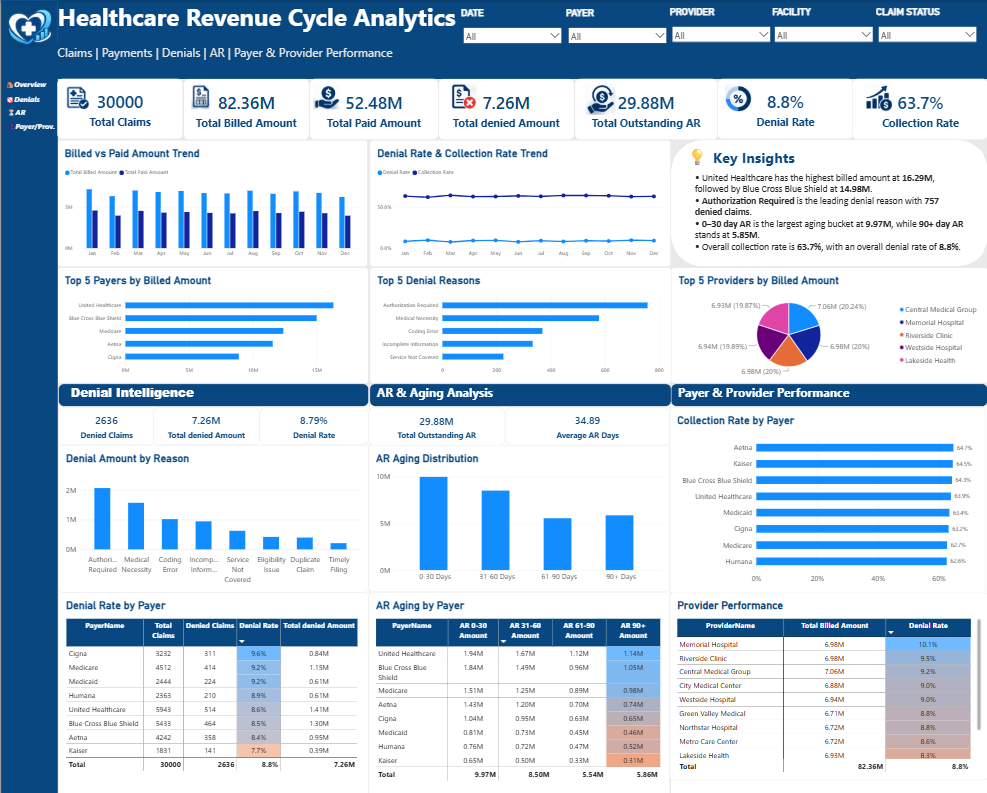

The page's visual inventory and layout, read from the dashboard file:
{"tool":"powerbi","page":{"name":"RCM Executive Overview","canvas":[2200,1800],"ordinal":0},"visuals":[{"type":"textbox","box":[110,0,2090,108],"z":0},{"type":"clusteredColumnChart","title":"Billed vs Paid Amount Trend","fields":{"Category":["DimDate.Month"],"Y":["FactClaims.Total Billed Amount","FactClaims.Total Paid Amount"]},"box":[126.2,311.2,691.2,282.5],"z":1000},{"type":"lineChart","title":"Denial Rate & Collection Rate Trend","fields":{"Category":["DimDate.Month"],"Y":["FactClaims.Denial Rate","FactClaims.Collection Rate"]},"box":[820,311.7,670,282.5],"z":2000},{"type":"clusteredBarChart","title":"Top 5 Payers by Billed Amount","fields":{"Category":["DimPayer.PayerName"],"Y":["FactClaims.Total Billed Amount"]},"box":[125,595,692.5,258.1],"z":3000},{"type":"clusteredBarChart","title":"Top 5 Denial Reasons","fields":{"Category":["DimDenialReason.DenialReason"],"Y":["FactClaims.Denied Claims"]},"box":[820,594.2,671.7,258.3],"z":4000},{"type":"pieChart","title":"Top 5 Providers by Billed Amount","fields":{"Category":["DimProvider.ProviderName"],"Y":["FactClaims.Total Billed Amount"]},"box":[1492.2,595.6,707.8,257.8],"z":5000},{"type":"shape","box":[0,0,126.7,1800.6],"z":6000},{"type":"textbox","box":[110,98,2090,78],"z":7000},{"type":"slicer","title":"DATE","fields":{"Values":["DimDate.MonthYear"]},"box":[1025,17.5,230,90],"z":8000},{"type":"slicer","title":"PAYER","fields":{"Values":["DimPayer.PayerName"]},"box":[1257.5,17.5,230,80],"z":9000},{"type":"slicer","title":"PROVIDER","fields":{"Values":["DimProvider.ProviderName"]},"box":[1487.5,15,230,82],"z":10000},{"type":"slicer","title":"FACILITY","fields":{"Values":["DimFacility.FacilityName"]},"box":[1717.5,15,230,84],"z":11000},{"type":"slicer","title":"CLAIM STATUS","fields":{"Values":["FactClaims.ClaimStatus"]},"box":[1947.5,15,230,86],"z":12000},{"type":"card","fields":{"Values":["FactClaims.Total Claims"]},"box":[126,176,280,134],"z":13000},{"type":"card","fields":{"Values":["FactClaims.Total Billed Amount"]},"box":[406,176,280,136],"z":14000},{"type":"card","fields":{"Values":["FactClaims.Total Paid Amount"]},"box":[686,176,286,136],"z":15000},{"type":"card","fields":{"Values":["FactClaims.Total denied Amount"]},"box":[974,176,302,136],"z":16000},{"type":"card","fields":{"Values":["FactClaims.Denial Rate"]},"box":[1594,176,304,134],"z":17000},{"type":"card","fields":{"Values":["FactClaims.Collection Rate"]},"box":[1896,176,304,136],"z":18000},{"type":"card","fields":{"Values":["FactClaims.Total Outstanding AR"]},"box":[1276,176,318,136],"z":19000},{"type":"shape","box":[1491.7,311.7,708.3,281.7],"z":20000},{"type":"textbox","box":[1525.7,322.9,307.1,55.7],"z":21000},{"type":"shape","box":[128.3,853.3,691.7,946.7],"z":22000},{"type":"textbox","box":[147.5,1133.8,670,20],"z":23000},{"type":"textbox","title":"Denial Intelligence ","box":[128.1,855,690,50],"z":24000},{"type":"card","fields":{"Values":["FactClaims.Denied Claims"]},"box":[126.9,906.2,214.4,83.1],"z":25000},{"type":"card","fields":{"Values":["FactClaims.Total denied Amount"]},"box":[340.6,906.9,235.6,82.5],"z":26000},{"type":"card","fields":{"Values":["FactClaims.Denial Rate"]},"box":[576.2,906.2,241.9,83.1],"z":27000},{"type":"clusteredColumnChart","title":"Denial Amount by Reason","fields":{"Category":["DimDenialReason.DenialReason"],"Y":["FactClaims.Total denied Amount"]},"box":[126.9,990,690.6,328.1],"z":28000},{"type":"tableEx","title":"Denial Rate by Payer","fields":{"Values":["DimPayer.PayerName","FactClaims.Total Claims","FactClaims.Denied Claims","FactClaims.Denial Rate","FactClaims.Total denied Amount"]},"box":[126.9,1318.1,690.6,481.9],"z":29000},{"type":"shape","box":[820,853.3,668.3,946.7],"z":30000},{"type":"textbox","title":"Denial Intelligence ","box":[820,854,671,50],"z":31000},{"type":"card","fields":{"Values":["FactClaims.Total Outstanding AR"]},"box":[818.1,906.2,304.2,85],"z":32000},{"type":"card","fields":{"Values":["FactClaims.Average AR Days"]},"box":[1123.8,908.1,363.8,83.8],"z":33000},{"type":"clusteredColumnChart","title":"AR Aging Distribution","fields":{"Category":["FactClaims.AR Bucket"],"Y":["FactClaims.Total Outstanding AR"]},"box":[818.1,991.2,669.4,326.2],"z":34000},{"type":"pivotTable","title":"AR Aging by Payer","fields":{"Rows":["DimPayer.PayerName"],"Values":["FactClaims.AR 0-30 Amount","FactClaims.AR 31-60 Amount","FactClaims.AR 61-90 Amount","FactClaims.AR 90+ Amount"]},"box":[818.1,1318.1,669.4,481.9],"z":35000},{"type":"shape","box":[1491.7,855,708.3,945],"z":36000},{"type":"textbox","title":"Payer & Provider Performance ","box":[1492.7,854.5,707.3,50],"z":37000},{"type":"clusteredBarChart","title":"Collection Rate by Payer","fields":{"Category":["DimPayer.PayerName"],"Y":["FactClaims.Collection Rate"]},"box":[1490,907.5,706.7,413.3],"z":38000},{"type":"pivotTable","title":"Provider Performance","fields":{"Rows":["DimProvider.ProviderName"],"Values":["FactClaims.Total Billed Amount","FactClaims.Denial Rate"]},"box":[1490,1318.8,710,417.5],"z":39000},{"type":"textbox","box":[1545.7,365.7,602.9,212.9],"z":40000},{"type":"image","box":[126,134,92,169],"z":41000},{"type":"image","box":[417.8,186.7,53.3,56.7],"z":42000},{"type":"image","box":[696.7,186.7,58.9,56.7],"z":43000},{"type":"image","box":[1276.7,186.7,113.3,68.9],"z":44000},{"type":"image","box":[988,187,83,57],"z":45000},{"type":"image","box":[1607,186,72,62],"z":46000},{"type":"image","box":[1917,187,72,61],"z":47000},{"type":"textbox","box":[4,176,118,34],"z":48000},{"type":"textbox","box":[4,210,118,34],"z":49000},{"type":"textbox","box":[4.4,238.9,117.8,26.7],"z":50000},{"type":"textbox","box":[4.4,270,118,34],"z":51000},{"type":"image","box":[0,0,128.3,136.7],"z":52000}]}

Visuals, with their boxes in screenshot pixels (x1, y1, x2, y2), scaled from the page's 2200x1800 canvas onto the 987x793 screenshot:
textbox: bbox(49, 0, 986, 48)
"Billed vs Paid Amount Trend" clusteredColumnChart: bbox(57, 137, 367, 262)
"Denial Rate & Collection Rate Trend" lineChart: bbox(368, 137, 668, 262)
"Top 5 Payers by Billed Amount" clusteredBarChart: bbox(56, 262, 367, 376)
"Top 5 Denial Reasons" clusteredBarChart: bbox(368, 262, 669, 376)
"Top 5 Providers by Billed Amount" pieChart: bbox(669, 262, 986, 376)
shape: bbox(0, 0, 57, 792)
textbox: bbox(49, 43, 986, 78)
"DATE" slicer: bbox(460, 8, 563, 47)
"PAYER" slicer: bbox(564, 8, 667, 43)
"PROVIDER" slicer: bbox(667, 7, 771, 43)
"FACILITY" slicer: bbox(771, 7, 874, 44)
"CLAIM STATUS" slicer: bbox(874, 7, 977, 44)
card - FactClaims.Total Claims: bbox(57, 78, 182, 137)
card - FactClaims.Total Billed Amount: bbox(182, 78, 308, 137)
card - FactClaims.Total Paid Amount: bbox(308, 78, 436, 137)
card - FactClaims.Total denied Amount: bbox(437, 78, 572, 137)
card - FactClaims.Denial Rate: bbox(715, 78, 852, 137)
card - FactClaims.Collection Rate: bbox(851, 78, 986, 137)
card - FactClaims.Total Outstanding AR: bbox(572, 78, 715, 137)
shape: bbox(669, 137, 986, 261)
textbox: bbox(684, 142, 822, 167)
shape: bbox(58, 376, 368, 792)
textbox: bbox(66, 500, 367, 508)
"Denial Intelligence " textbox: bbox(57, 377, 367, 399)
card - FactClaims.Denied Claims: bbox(57, 399, 153, 436)
card - FactClaims.Total denied Amount: bbox(153, 400, 259, 436)
card - FactClaims.Denial Rate: bbox(259, 399, 367, 436)
"Denial Amount by Reason" clusteredColumnChart: bbox(57, 436, 367, 581)
"Denial Rate by Payer" tableEx: bbox(57, 581, 367, 792)
shape: bbox(368, 376, 668, 792)
"Denial Intelligence " textbox: bbox(368, 376, 669, 398)
card - FactClaims.Total Outstanding AR: bbox(367, 399, 504, 437)
card - FactClaims.Average AR Days: bbox(504, 400, 667, 437)
"AR Aging Distribution" clusteredColumnChart: bbox(367, 437, 667, 580)
"AR Aging by Payer" pivotTable: bbox(367, 581, 667, 792)
shape: bbox(669, 377, 986, 792)
"Payer & Provider Performance " textbox: bbox(670, 376, 986, 398)
"Collection Rate by Payer" clusteredBarChart: bbox(668, 400, 986, 582)
"Provider Performance" pivotTable: bbox(668, 581, 986, 765)
textbox: bbox(693, 161, 964, 255)
image: bbox(57, 59, 98, 133)
image: bbox(187, 82, 211, 107)
image: bbox(313, 82, 339, 107)
image: bbox(573, 82, 624, 113)
image: bbox(443, 82, 480, 107)
image: bbox(721, 82, 753, 109)
image: bbox(860, 82, 892, 109)
textbox: bbox(2, 78, 55, 93)
textbox: bbox(2, 93, 55, 107)
textbox: bbox(2, 105, 55, 117)
textbox: bbox(2, 119, 55, 134)
image: bbox(0, 0, 58, 60)
